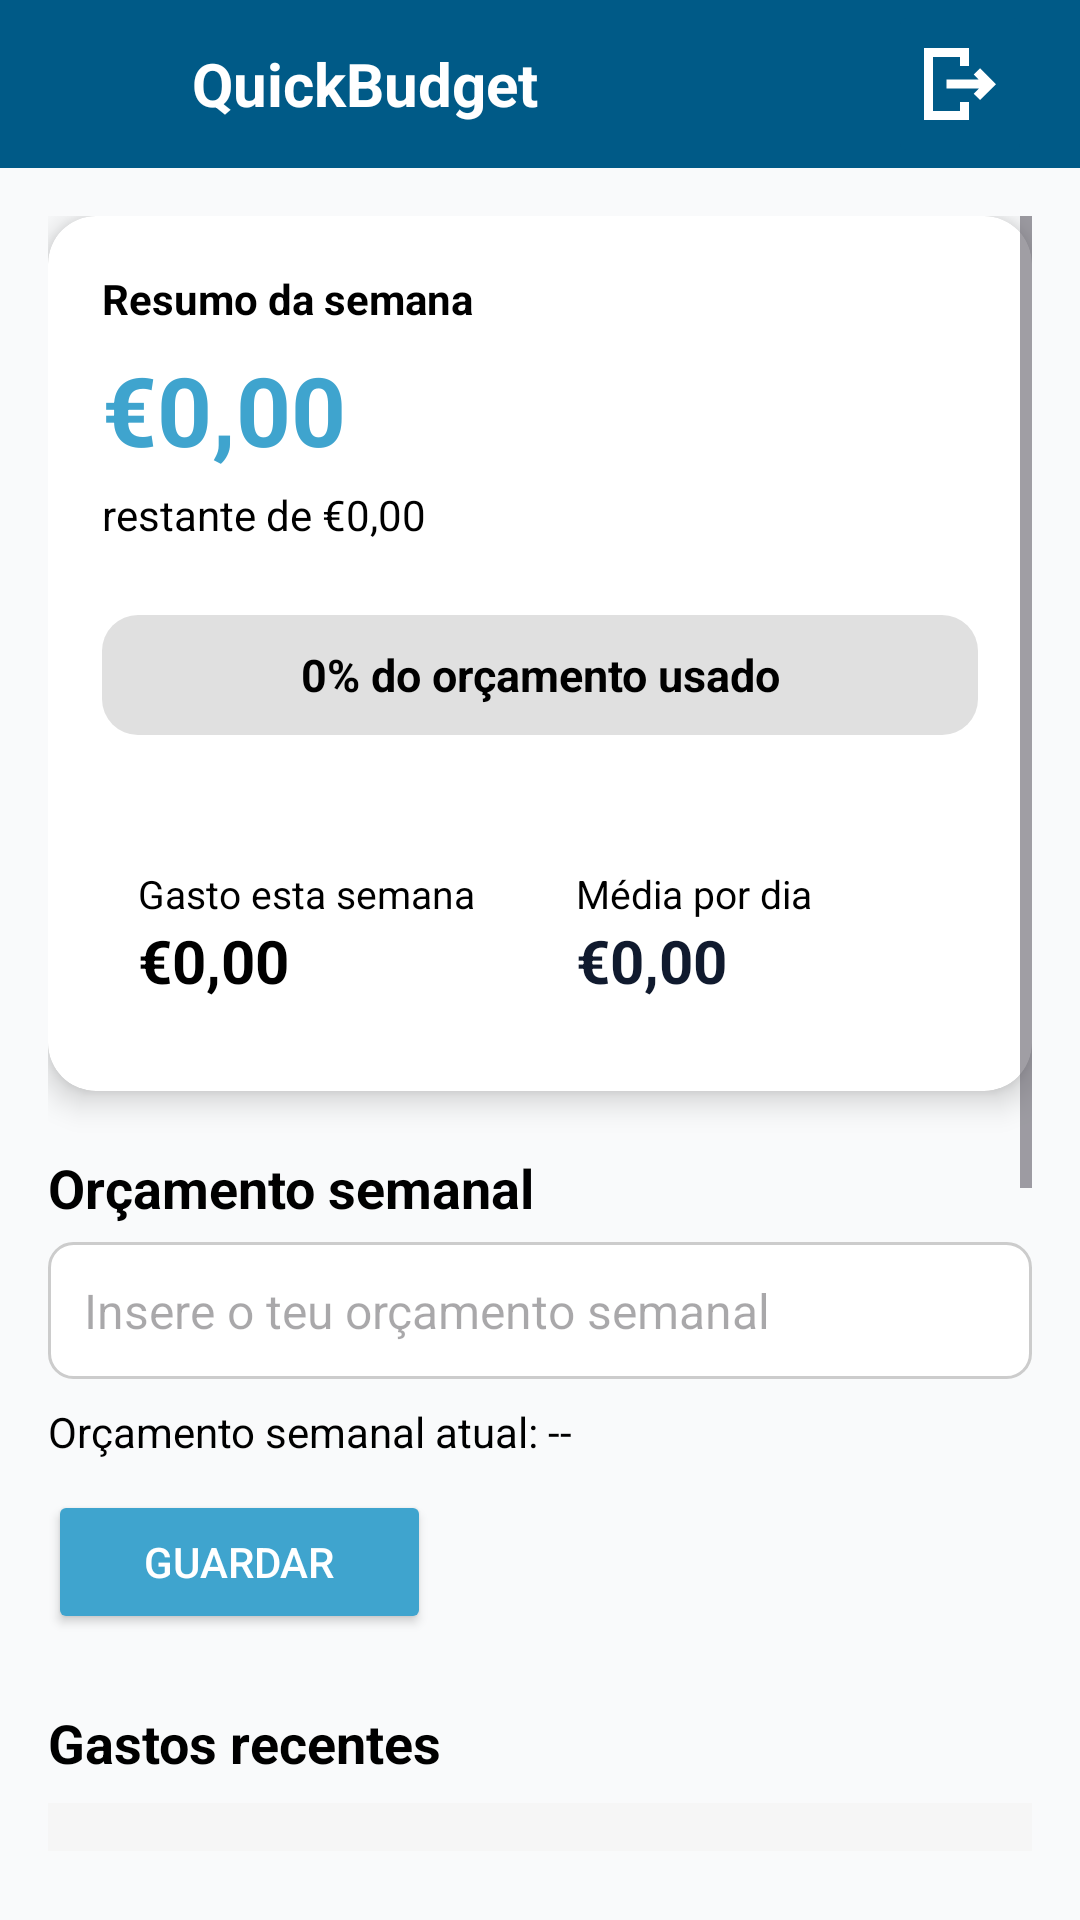

Icon click points for this 1080w x 1920h phone screenshot, format (x,y):
exit: (960,84)
